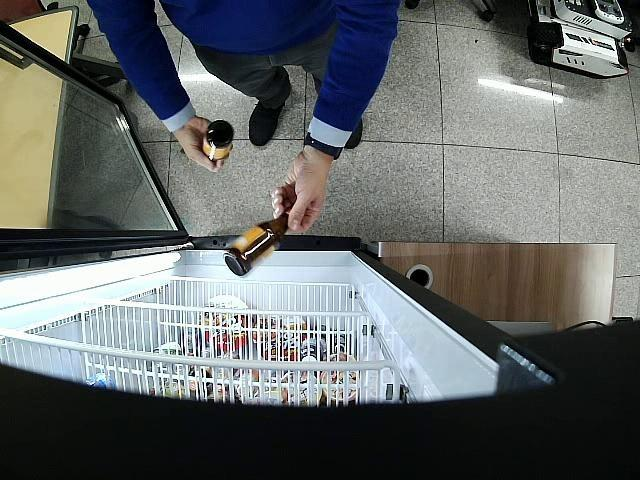17_vita500: (224, 210, 290, 276), (203, 120, 233, 166)
